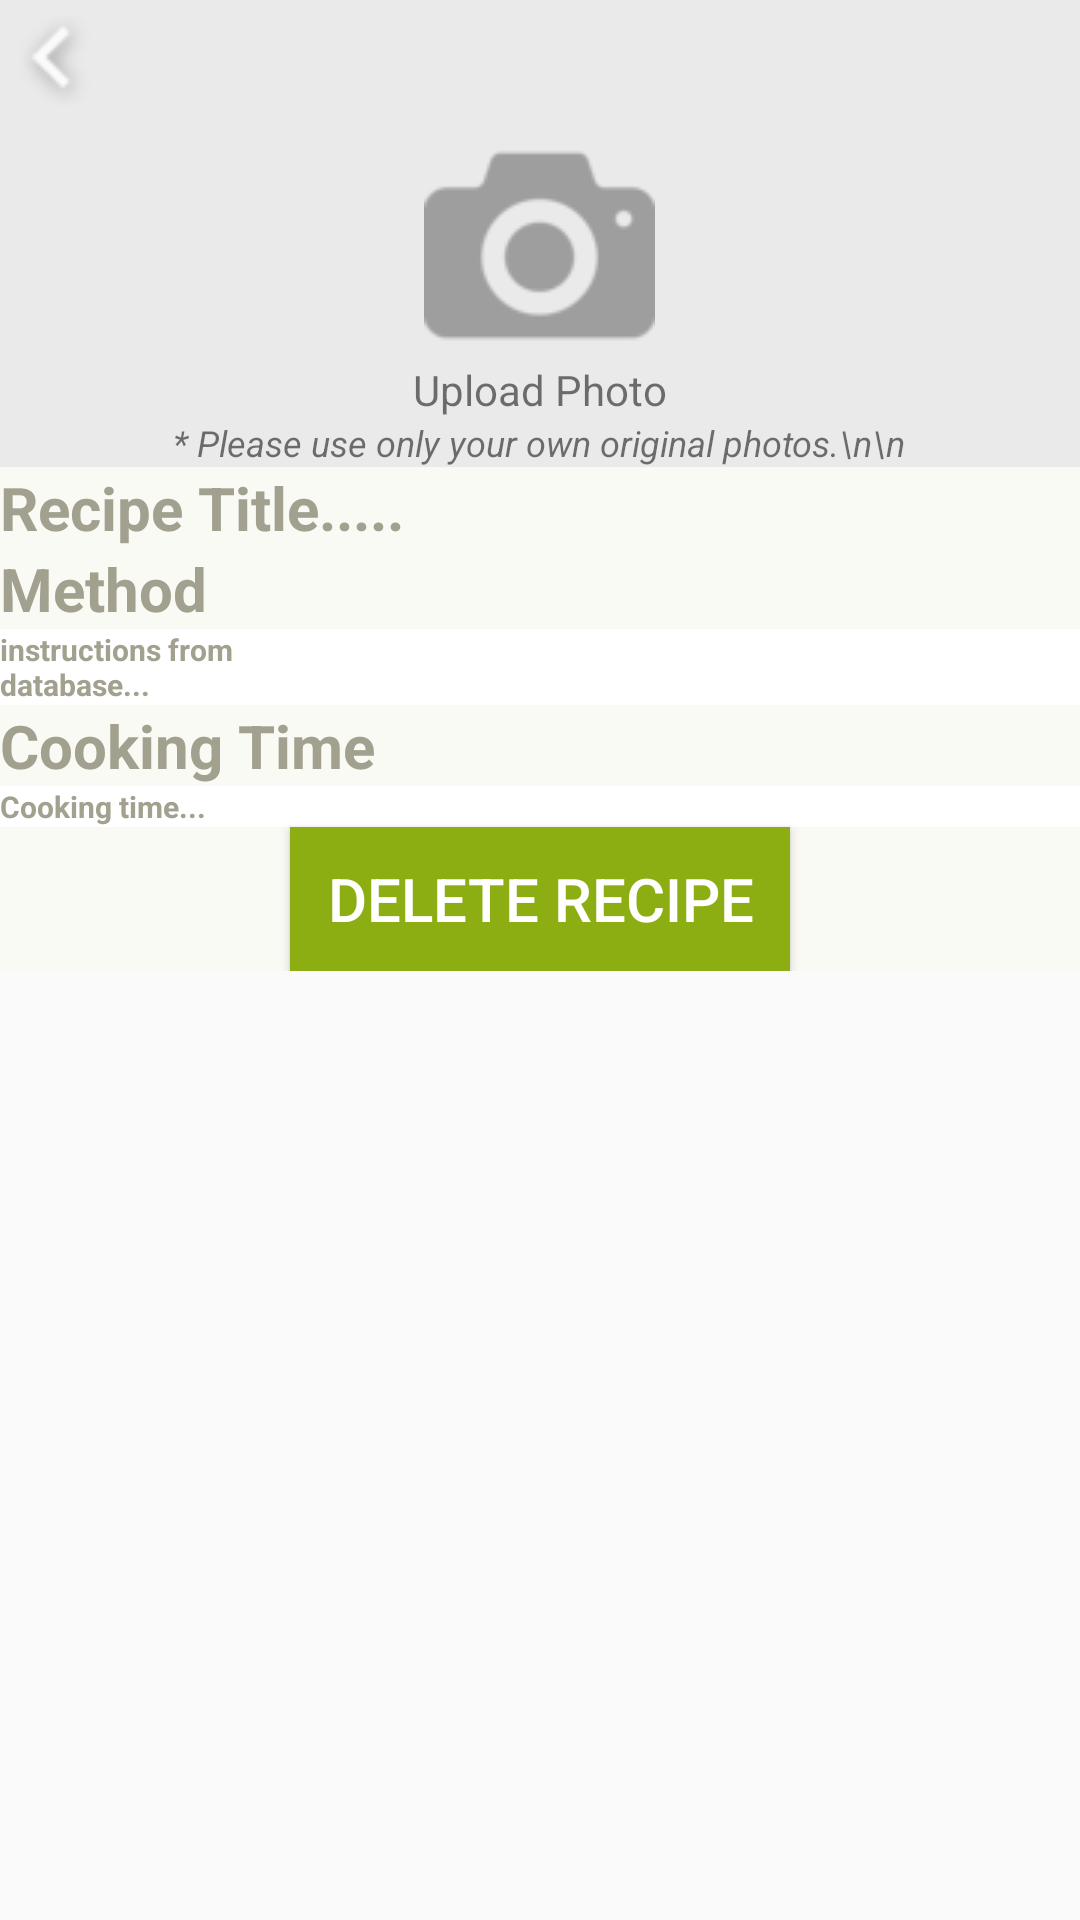

Named icons in this screenshot (1080 x 1920) and their centers, point (x, y):
back: point (53, 61)
camera: point (539, 245)
